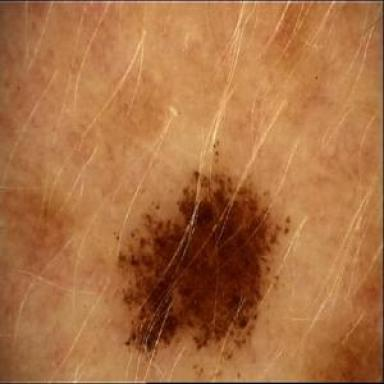Melanoma: (120, 171, 291, 358)
